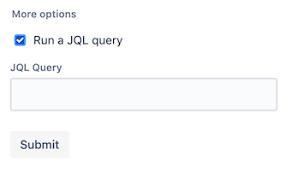button: (9, 131, 71, 159)
checkbox: (15, 35, 27, 47)
input: (12, 78, 279, 112)
label: (34, 34, 124, 48), (13, 9, 78, 20), (11, 63, 63, 76)
